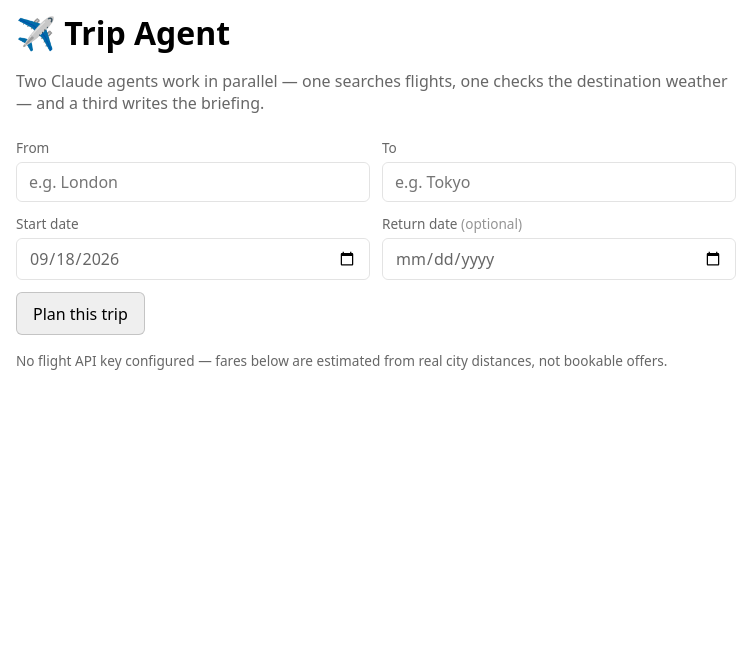
Scenario: request › includes the return date when one is entered
Type "Chennai" into the field labelled "From" at [193, 182], box [16, 162, 370, 202]
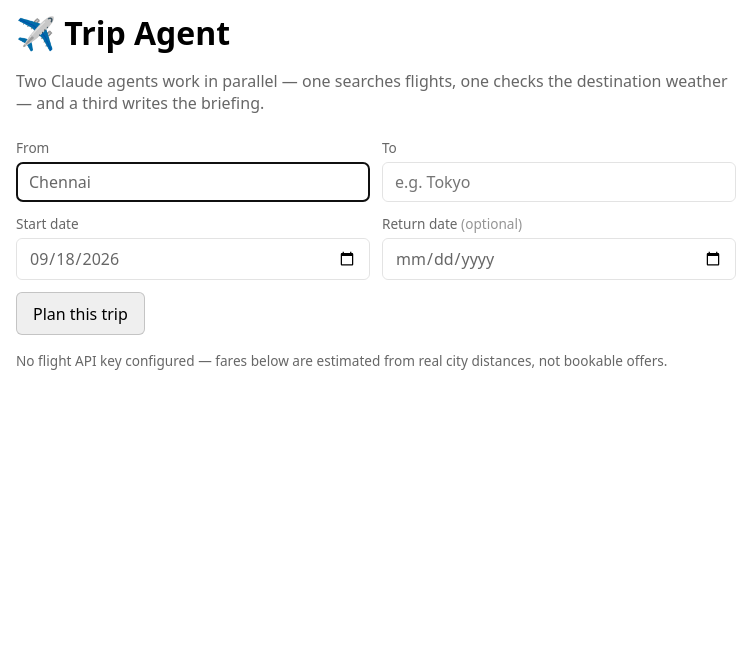
Type "Tokyo" into the field labelled "To" at [559, 182], box [382, 162, 736, 202]
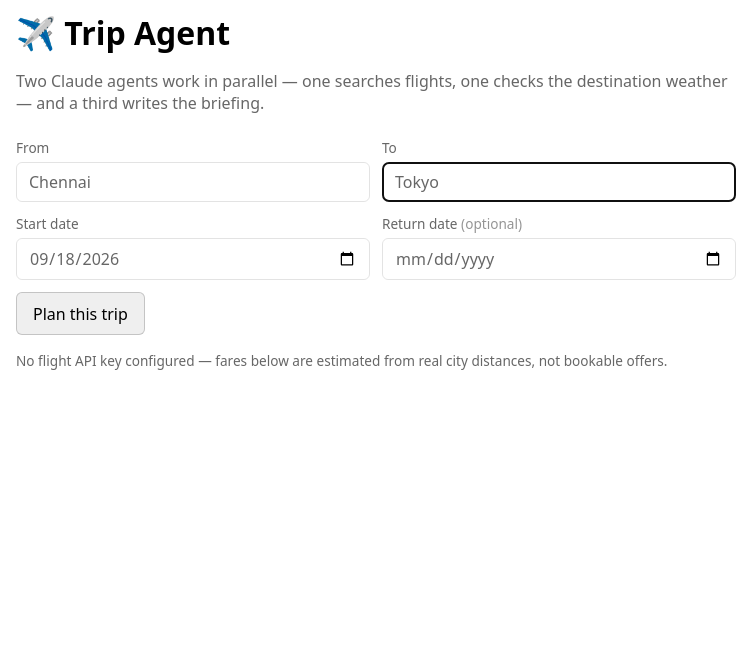
Type "2027-03-10" into the date field labelled "Start date" at [193, 259], box [16, 238, 370, 280]
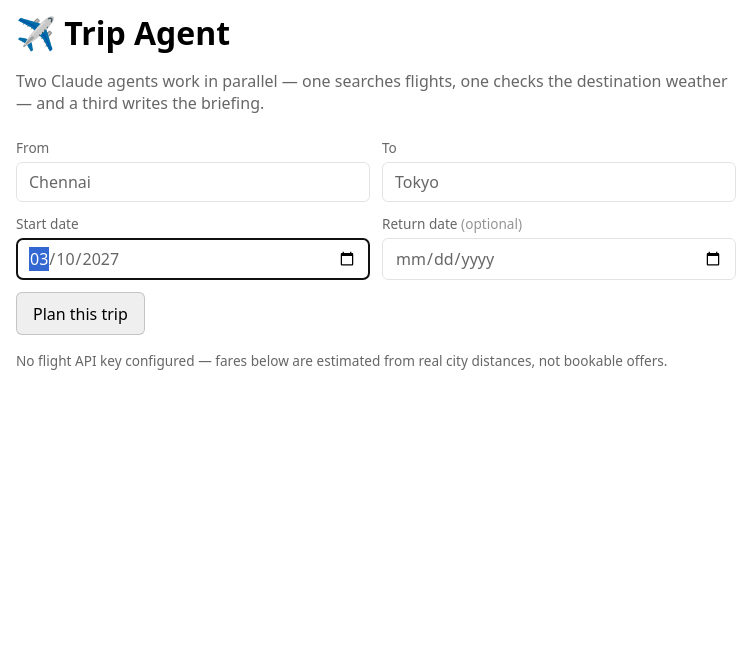
Type "2027-03-17" into the date field labelled "Return date (optional)" at [559, 259], box [382, 238, 736, 280]
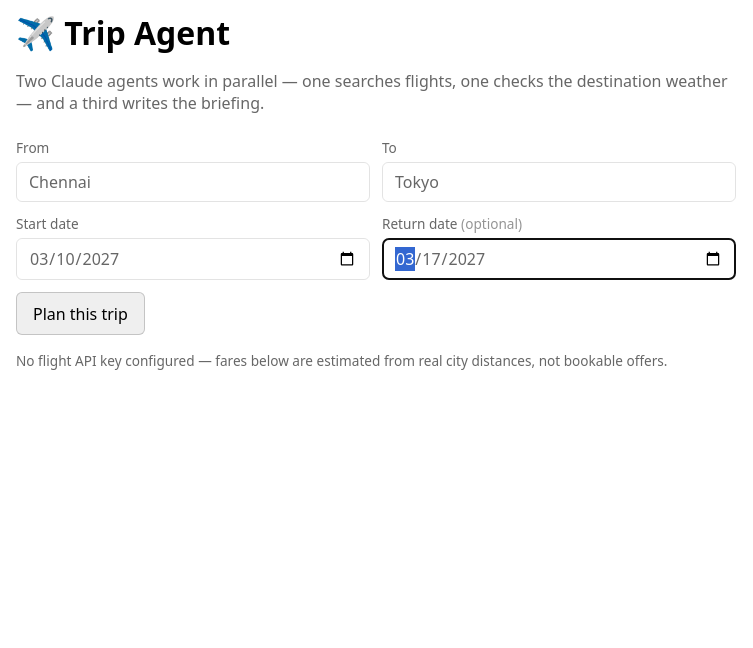
Click the button "Plan this trip" at [80, 314], box [16, 292, 145, 335]
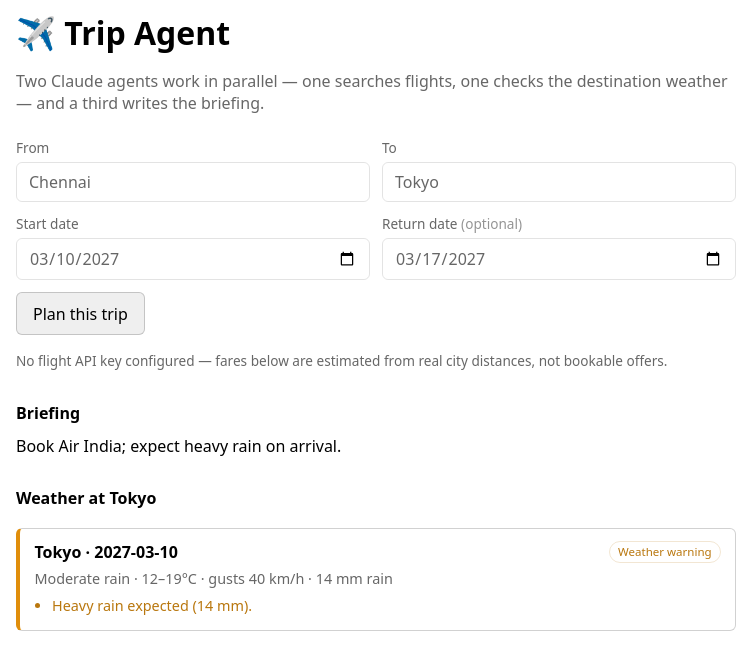
Check: the text "Book Air India; expect heavy rain on arrival." is shown, box [16, 435, 341, 457]
